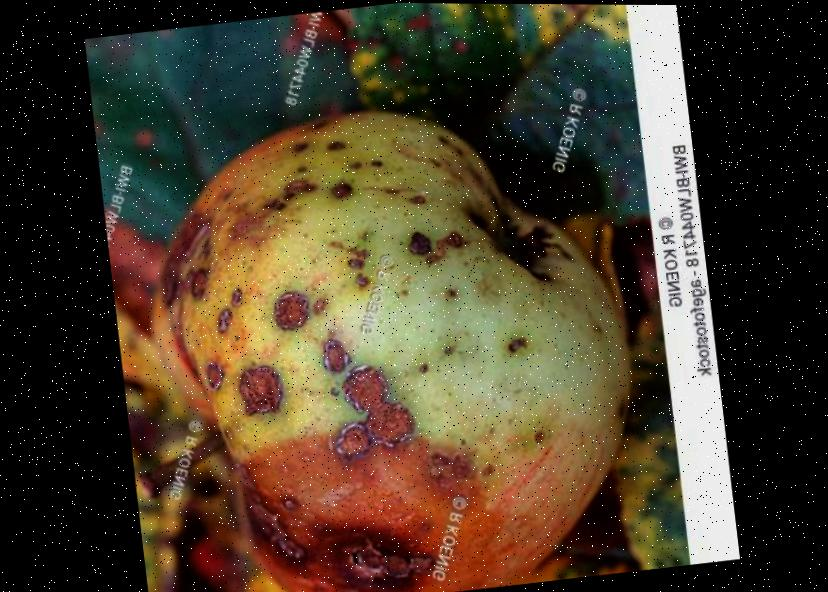SCAB: (116, 91, 663, 592)
